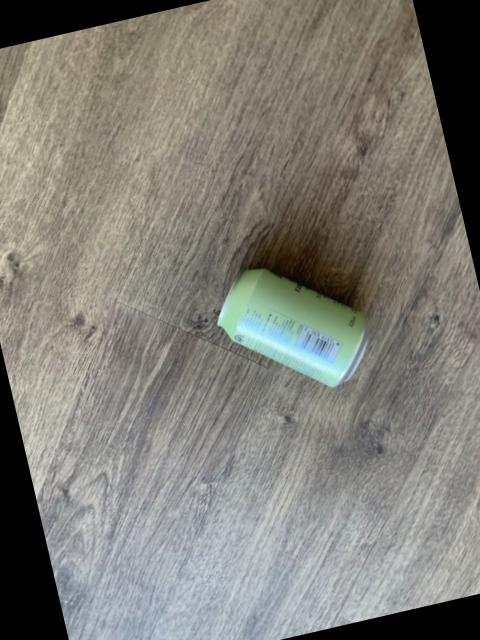metal: (215, 267, 365, 384)
